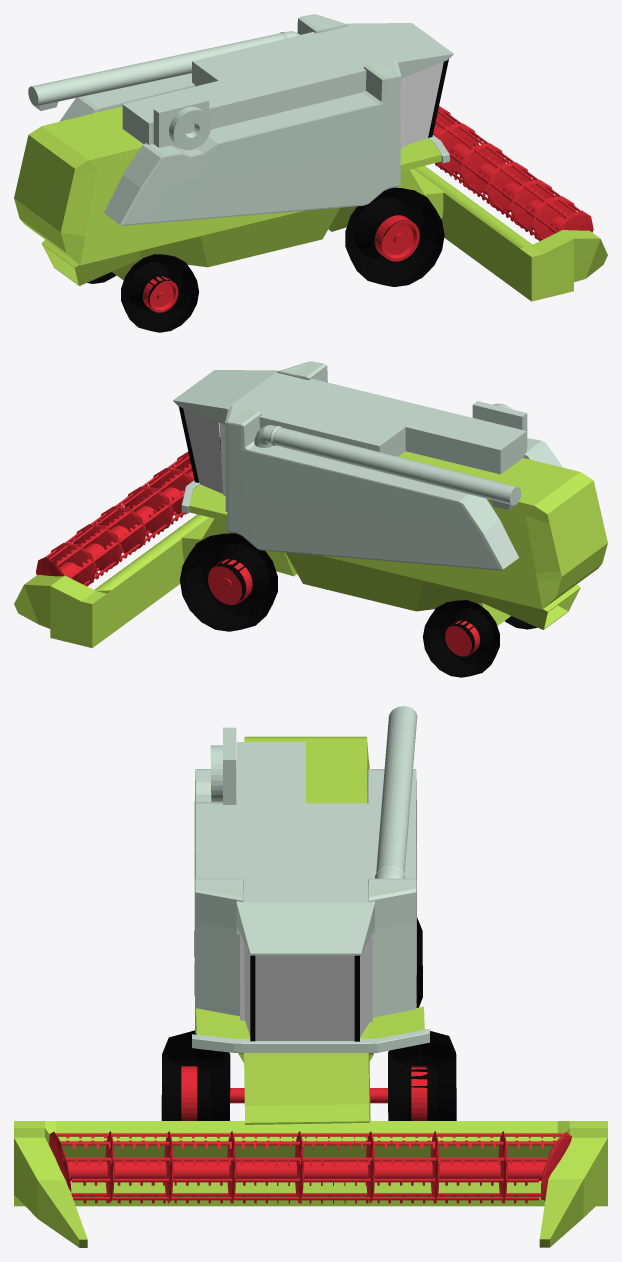
File: combine V3.fbx
The picture shows the model from 3 angles, top to bottom: view 1: azimuth 30°, elevation 25°; view 2: azimuth 150°, elevation 25°; view 3: azimuth 270°, elevation 25°; orthographic projection. The views are drawn at different scales.
Visible parts, largest first — view 1: side panels, chassis, roof and tank doors, tynes 1.007, header main part, wheel front left, wheel back left, feeder arm, glass left side, feeder cylinder, fan, fan background; view 2: side panels, chassis, roof and tank doors, header main part, tynes 1.007, wheel front right, feeder arm, wheel back right, glass right side, feeder cylinder, fan background; view 3: header main part, roof and tank doors, tynes 1.007, side panels, chassis, windshield, wheel front right, wheel front left, feeder arm, front bevel, fan background, glass right side (+1 smaller).
Part boxes in pixels (x1,y1,x2,y2): side panels: (59, 14, 401, 225); chassis: (14, 106, 445, 285); roof and tank doors: (122, 23, 453, 144); tynes 1.007: (433, 106, 593, 241); header main part: (441, 193, 607, 301); wheel front left: (345, 187, 444, 286); wheel back left: (121, 254, 198, 332); feeder arm: (28, 31, 299, 110); glass left side: (403, 62, 443, 146); feeder cylinder: (413, 166, 532, 248); fan: (169, 106, 211, 150); fan background: (153, 97, 209, 148); side panels: (225, 361, 562, 570); chassis: (181, 451, 607, 629); roof and tank doors: (173, 370, 526, 474); header main part: (14, 539, 183, 648); tynes 1.007: (36, 452, 194, 586); wheel front right: (179, 533, 277, 631); feeder arm: (254, 425, 521, 510); wheel back right: (423, 600, 499, 677); glass right side: (183, 408, 222, 493); feeder cylinder: (94, 514, 208, 590); fan background: (472, 401, 527, 447); header main part: (14, 1121, 607, 1247); roof and tank doors: (236, 742, 374, 955); tynes 1.007: (49, 1131, 571, 1203); side panels: (194, 769, 416, 1033); chassis: (196, 736, 424, 1124); windshield: (255, 956, 354, 1040); wheel front right: (388, 1031, 456, 1120); wheel front left: (161, 1030, 230, 1120); feeder arm: (375, 706, 417, 878); front bevel: (192, 1029, 429, 1052); fan background: (223, 727, 236, 804); glass right side: (360, 932, 371, 1036).
Bounding box in the file's own units: 2280 × 981 × 1849.
